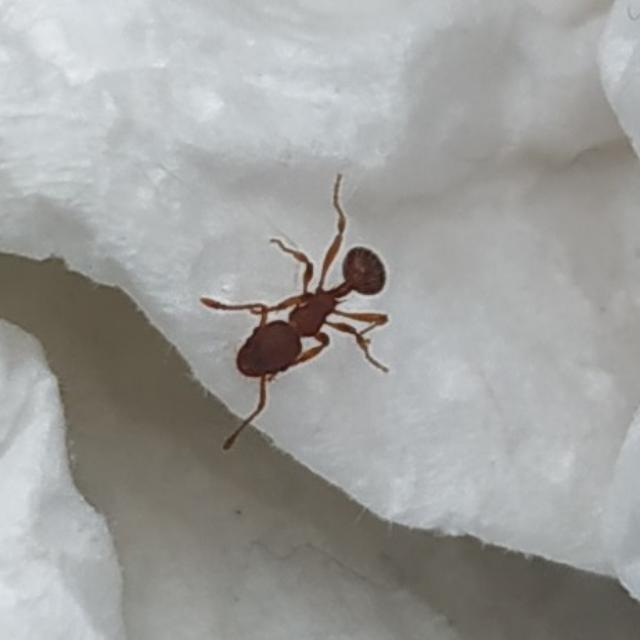Myrmica: (158, 194, 412, 422)
